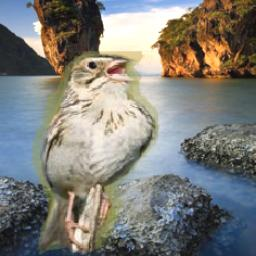Sparrow: (34, 52, 161, 256)
